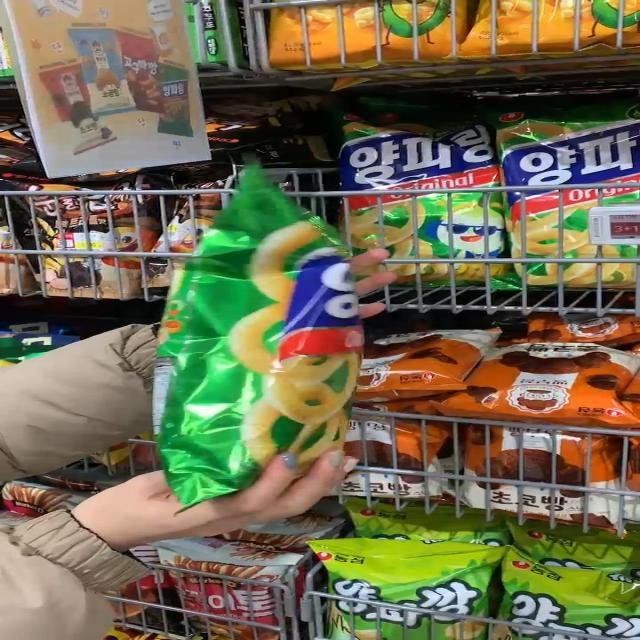onionRing: (184, 187, 336, 461), (347, 118, 509, 292), (514, 117, 640, 297)
